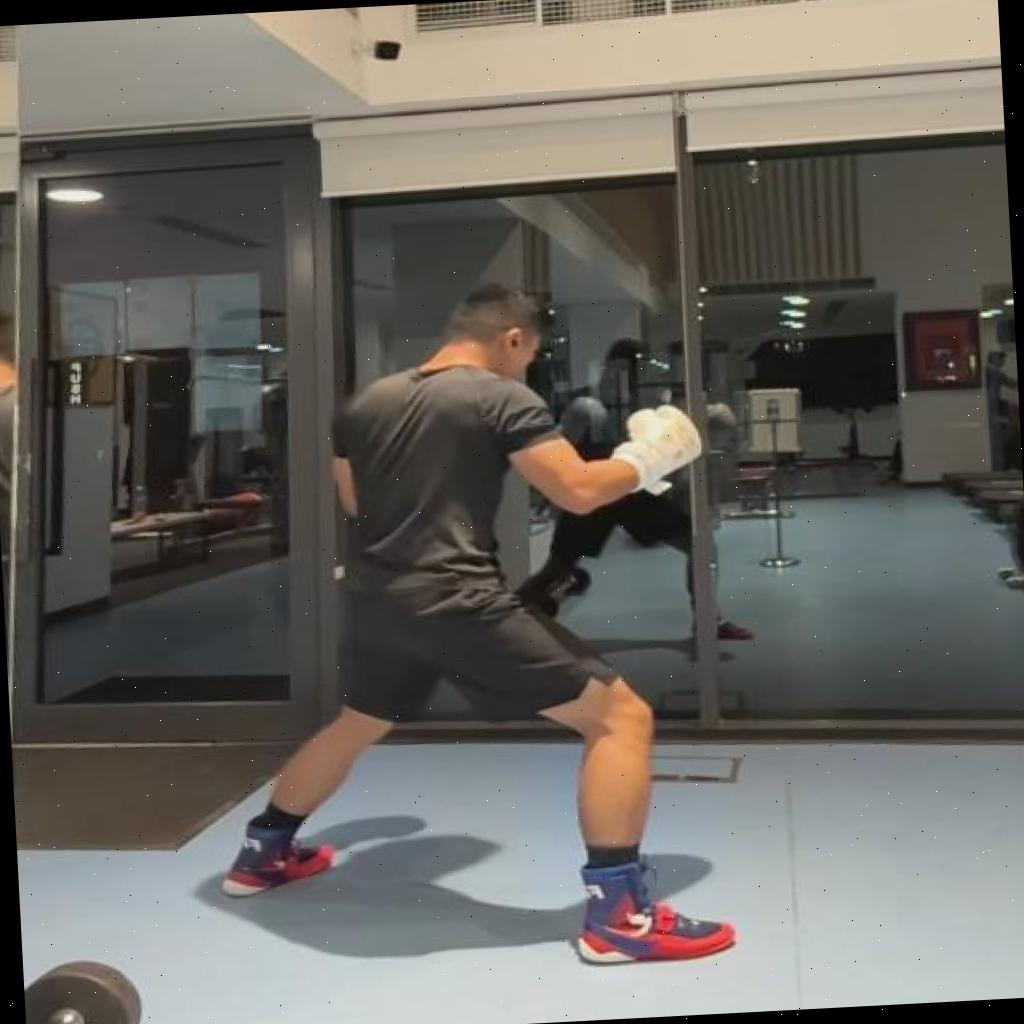no punch: (185, 266, 786, 990)
